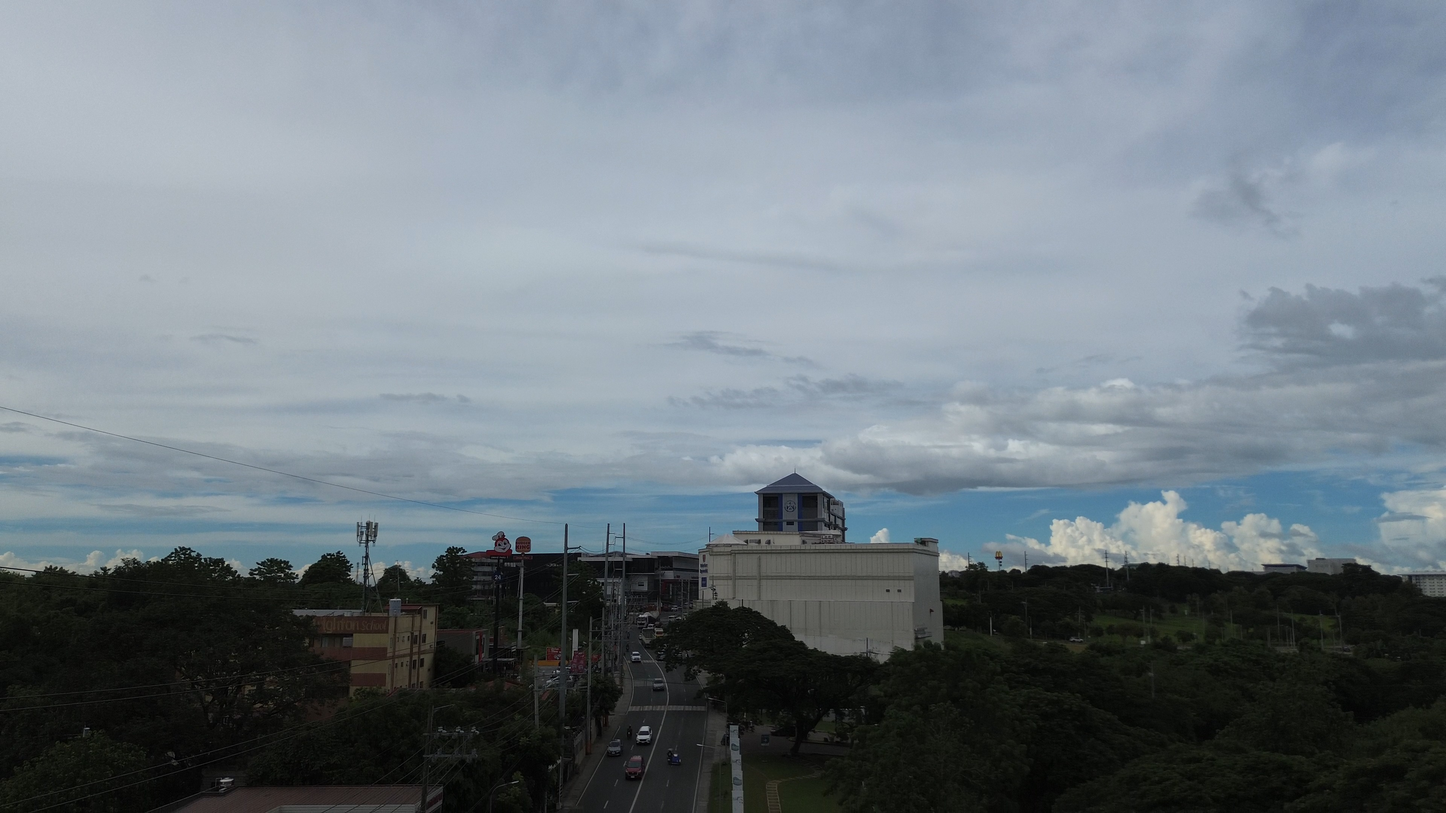car: (625, 757, 644, 780), (635, 726, 652, 745), (606, 739, 621, 755), (652, 678, 666, 691), (631, 652, 642, 662)
vehicle: (667, 749, 681, 765), (1069, 636, 1084, 643)
